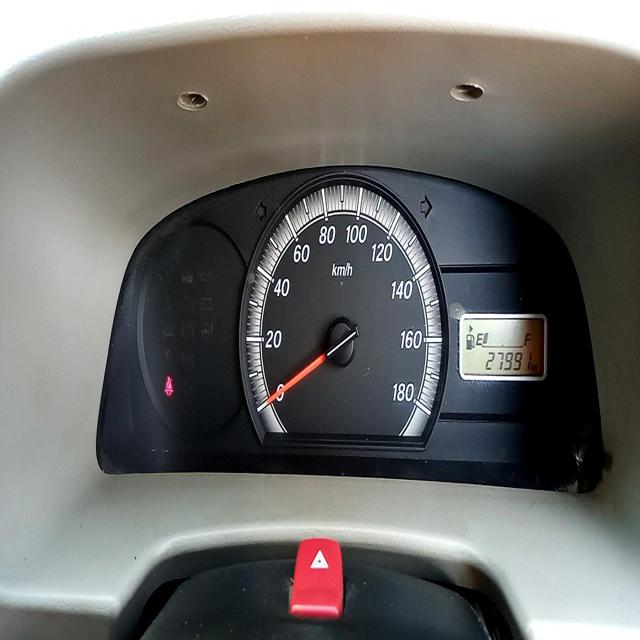odometer: (482, 348, 533, 374)
